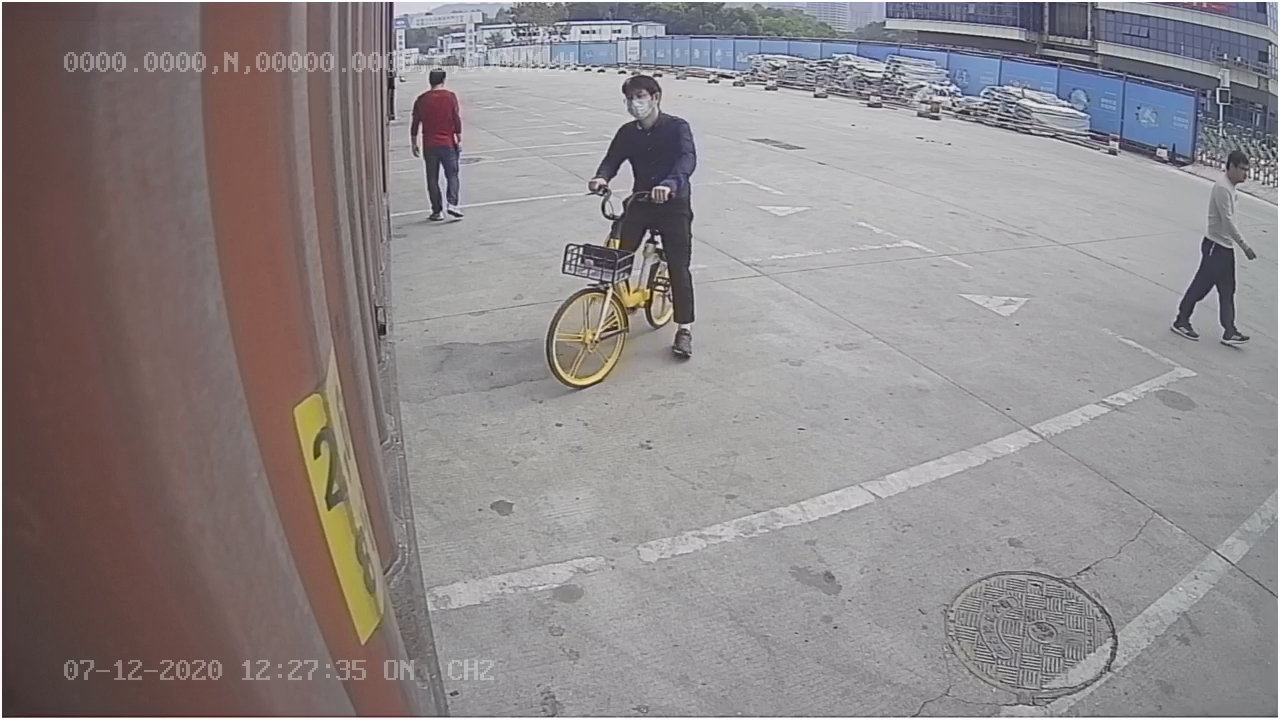person: (407, 64, 470, 228)
